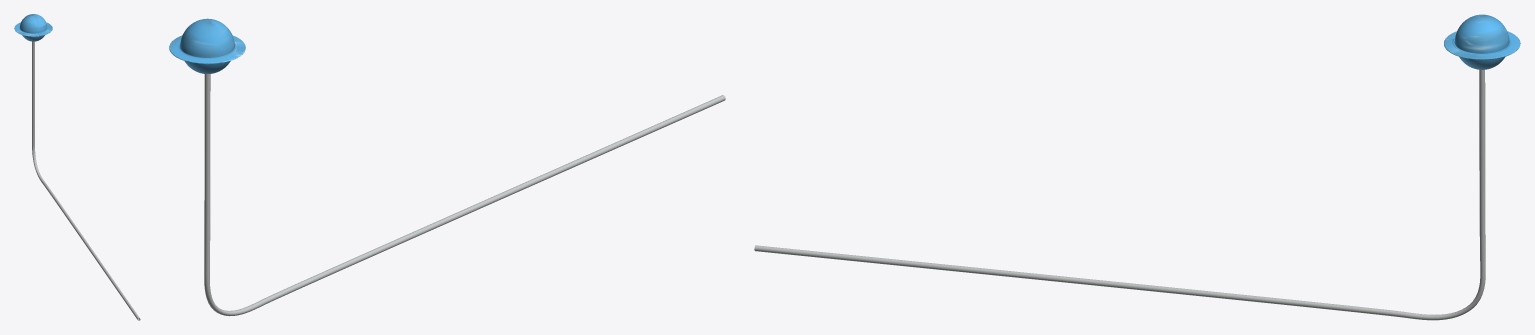
The model's file is orrery_planeta2.glb.
The picture shows the model from 3 angles, left to right: view 1: azimuth 30°, elevation 25°; view 2: azimuth 150°, elevation 25°; view 3: azimuth 270°, elevation 25°; orthographic projection. The views are drawn at different scales.
Parts seen in each view (by area): view 1: polySurface6_modelUniverseMaterial_0; view 2: polySurface6_modelUniverseMaterial_0; view 3: polySurface6_modelUniverseMaterial_0.
Part boxes in pixels (x1,y1,x2,y2): polySurface6_modelUniverseMaterial_0: [14, 14, 140, 320]; polySurface6_modelUniverseMaterial_0: [169, 18, 725, 316]; polySurface6_modelUniverseMaterial_0: [754, 14, 1520, 320].
Bounding box in the file's own units: 0.11 × 0.1724 × 0.3877.
Materials: 1 (1 with a texture image).
